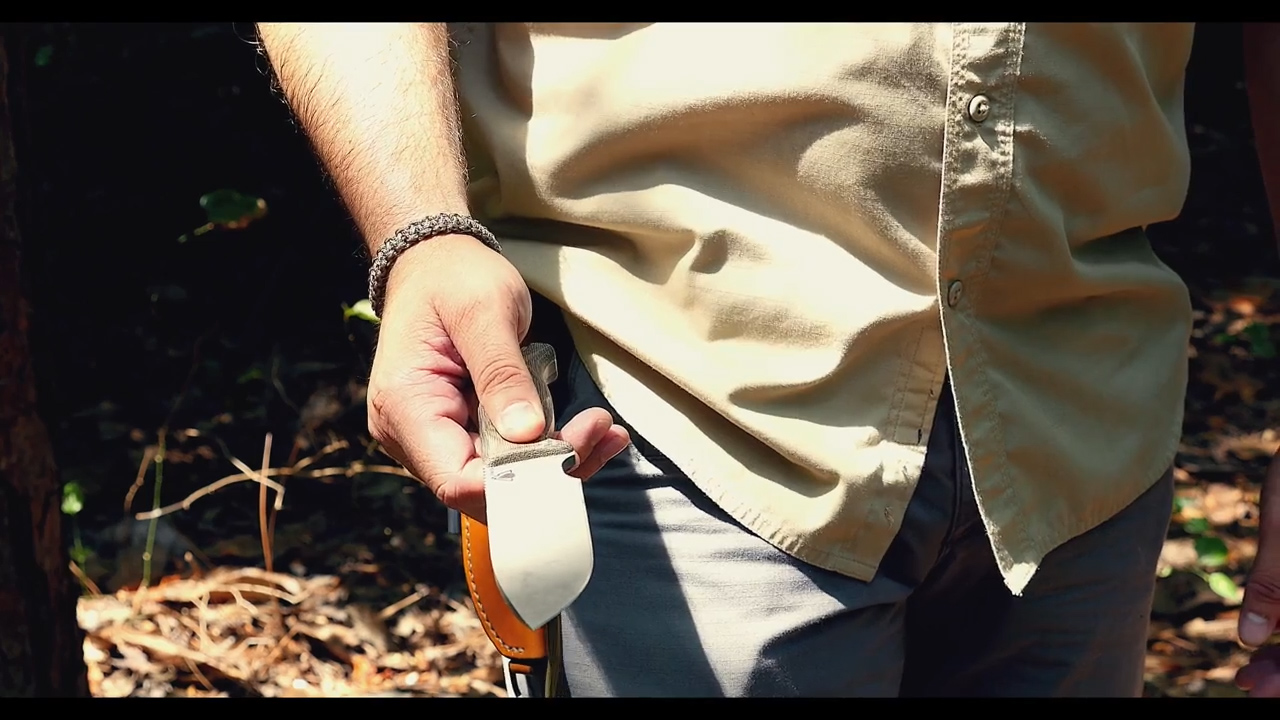knife: (361, 325, 637, 636)
